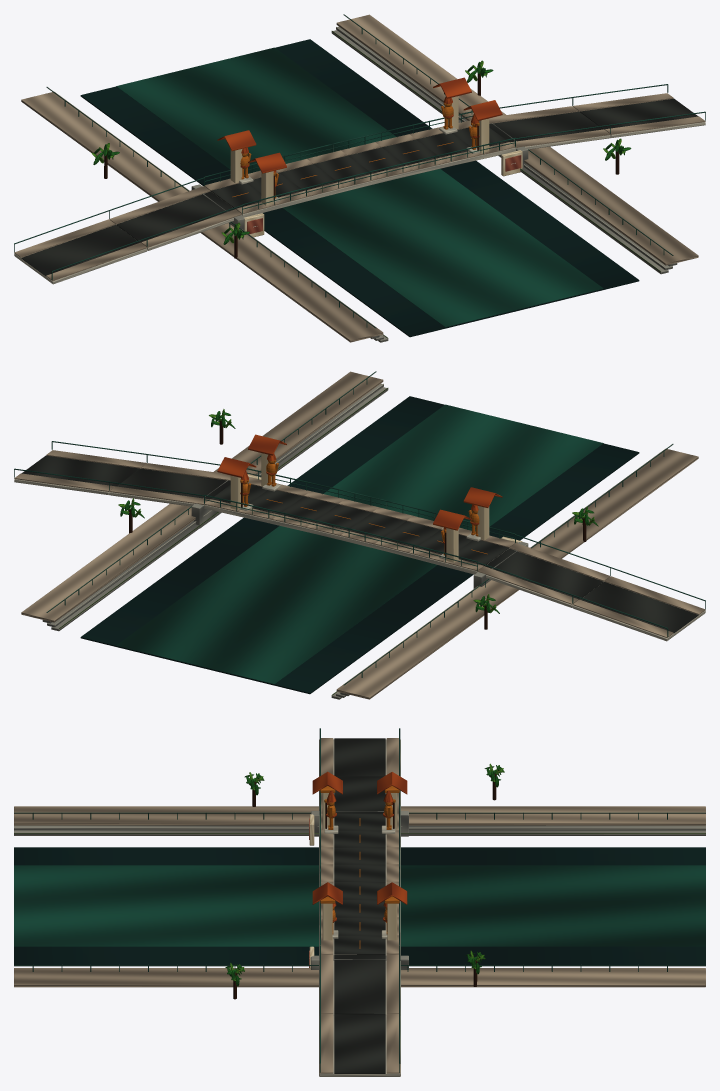
The model's file is HNP_Map007_BridgeCanal_LOD1_v003.fbx.
3 renders of one model, top to bottom at view 1: azimuth 30°, elevation 25°; view 2: azimuth 150°, elevation 25°; view 3: azimuth 270°, elevation 25°, orthographic. The views are drawn at different scales.
Visible parts, largest first — view 1: MAP007_CANAL_LOD1_S0_MAT_Canal_Water, MAP007_CANAL_LOD1_S0_MAT_Canal_Water_Deep, MAP007_CANAL_LOD1_S-1_MAT_Forecourt_Paver, MAP007_CANAL_LOD1_S1_MAT_Forecourt_Paver, MAP007_CANAL_LOD1_S-1_MAT_Asphalt, MAP007_CANAL_LOD1_S1_MAT_Asphalt, MAP007_CANAL_LOD1_S1_MAT_Concrete_Aged, MAP007_CANAL_LOD1_S0_MAT_Asphalt, MAP007_CANAL_LOD1_S0_MAT_Forecourt_Paver, MAP007_CANAL_LOD1_S0_MAT_Painted_Steel_Green, MAP007_CANAL_LOD1_S-1_MAT_Painted_Steel_Green, MAP007_CANAL_LOD1_S1_MAT_Painted_Steel_Green (+7 smaller); view 2: MAP007_CANAL_LOD1_S0_MAT_Canal_Water, MAP007_CANAL_LOD1_S0_MAT_Canal_Water_Deep, MAP007_CANAL_LOD1_S-1_MAT_Forecourt_Paver, MAP007_CANAL_LOD1_S1_MAT_Forecourt_Paver, MAP007_CANAL_LOD1_S-1_MAT_Asphalt, MAP007_CANAL_LOD1_S1_MAT_Asphalt, MAP007_CANAL_LOD1_S1_MAT_Concrete_Aged, MAP007_CANAL_LOD1_S0_MAT_Asphalt, MAP007_CANAL_LOD1_S0_MAT_Forecourt_Paver, MAP007_CANAL_LOD1_S0_MAT_Painted_Steel_Green, MAP007_CANAL_LOD1_S-1_MAT_Painted_Steel_Green, MAP007_CANAL_LOD1_S1_MAT_Painted_Steel_Green (+7 smaller); view 3: MAP007_CANAL_LOD1_S0_MAT_Canal_Water, MAP007_CANAL_LOD1_S0_MAT_Canal_Water_Deep, MAP007_CANAL_LOD1_S1_MAT_Forecourt_Paver, MAP007_CANAL_LOD1_S-1_MAT_Forecourt_Paver, MAP007_CANAL_LOD1_S1_MAT_Asphalt, MAP007_CANAL_LOD1_S-1_MAT_Concrete_Aged, MAP007_CANAL_LOD1_S-1_MAT_Asphalt, MAP007_CANAL_LOD1_S0_MAT_Asphalt, MAP007_CANAL_LOD1_S-1_MAT_Concrete_Light, MAP007_CANAL_LOD1_S-1_MAT_Painted_Steel_Green, MAP007_CANAL_LOD1_S1_MAT_Painted_Steel_Green, MAP007_CANAL_LOD1_S-1_MAT_Terracotta_Roof (+8 smaller).
Part boxes in pixels (x1,y1,x2,y2): MAP007_CANAL_LOD1_S0_MAT_Canal_Water: [116, 47, 603, 327]; MAP007_CANAL_LOD1_S0_MAT_Canal_Water_Deep: [80, 39, 639, 337]; MAP007_CANAL_LOD1_S-1_MAT_Forecourt_Paver: [14, 91, 383, 342]; MAP007_CANAL_LOD1_S1_MAT_Forecourt_Paver: [336, 14, 705, 265]; MAP007_CANAL_LOD1_S-1_MAT_Asphalt: [21, 173, 303, 276]; MAP007_CANAL_LOD1_S1_MAT_Asphalt: [416, 98, 698, 157]; MAP007_CANAL_LOD1_S1_MAT_Concrete_Aged: [331, 26, 677, 274]; MAP007_CANAL_LOD1_S0_MAT_Asphalt: [279, 139, 440, 190]; MAP007_CANAL_LOD1_S0_MAT_Forecourt_Paver: [277, 134, 447, 196]; MAP007_CANAL_LOD1_S0_MAT_Painted_Steel_Green: [204, 111, 515, 209]; MAP007_CANAL_LOD1_S-1_MAT_Painted_Steel_Green: [14, 87, 376, 328]; MAP007_CANAL_LOD1_S1_MAT_Painted_Steel_Green: [343, 14, 705, 255]; MAP007_CANAL_LOD1_S0_MAT_Canal_Water: [116, 404, 603, 684]; MAP007_CANAL_LOD1_S0_MAT_Canal_Water_Deep: [80, 396, 639, 694]; MAP007_CANAL_LOD1_S-1_MAT_Forecourt_Paver: [336, 448, 705, 699]; MAP007_CANAL_LOD1_S1_MAT_Forecourt_Paver: [14, 371, 383, 622]; MAP007_CANAL_LOD1_S-1_MAT_Asphalt: [416, 530, 698, 633]; MAP007_CANAL_LOD1_S1_MAT_Asphalt: [22, 455, 303, 514]; MAP007_CANAL_LOD1_S1_MAT_Concrete_Aged: [42, 383, 388, 631]; MAP007_CANAL_LOD1_S0_MAT_Asphalt: [279, 496, 439, 547]; MAP007_CANAL_LOD1_S0_MAT_Forecourt_Paver: [272, 491, 442, 552]; MAP007_CANAL_LOD1_S0_MAT_Painted_Steel_Green: [204, 468, 515, 566]; MAP007_CANAL_LOD1_S-1_MAT_Painted_Steel_Green: [343, 444, 705, 685]; MAP007_CANAL_LOD1_S1_MAT_Painted_Steel_Green: [14, 371, 376, 612]; MAP007_CANAL_LOD1_S0_MAT_Canal_Water: [14, 865, 705, 946]; MAP007_CANAL_LOD1_S0_MAT_Canal_Water_Deep: [14, 847, 705, 966]; MAP007_CANAL_LOD1_S1_MAT_Forecourt_Paver: [14, 917, 705, 1073]; MAP007_CANAL_LOD1_S-1_MAT_Forecourt_Paver: [14, 738, 705, 847]; MAP007_CANAL_LOD1_S1_MAT_Asphalt: [334, 917, 385, 1073]; MAP007_CANAL_LOD1_S-1_MAT_Concrete_Aged: [14, 811, 705, 836]; MAP007_CANAL_LOD1_S-1_MAT_Asphalt: [334, 738, 385, 847]; MAP007_CANAL_LOD1_S0_MAT_Asphalt: [334, 847, 385, 917]; MAP007_CANAL_LOD1_S-1_MAT_Concrete_Light: [14, 739, 705, 834]; MAP007_CANAL_LOD1_S-1_MAT_Painted_Steel_Green: [14, 728, 705, 819]; MAP007_CANAL_LOD1_S1_MAT_Painted_Steel_Green: [14, 945, 705, 1072]; MAP007_CANAL_LOD1_S-1_MAT_Terracotta_Roof: [312, 771, 407, 817].
Size of the model in its own units: 8259 by 878 by 7200.
